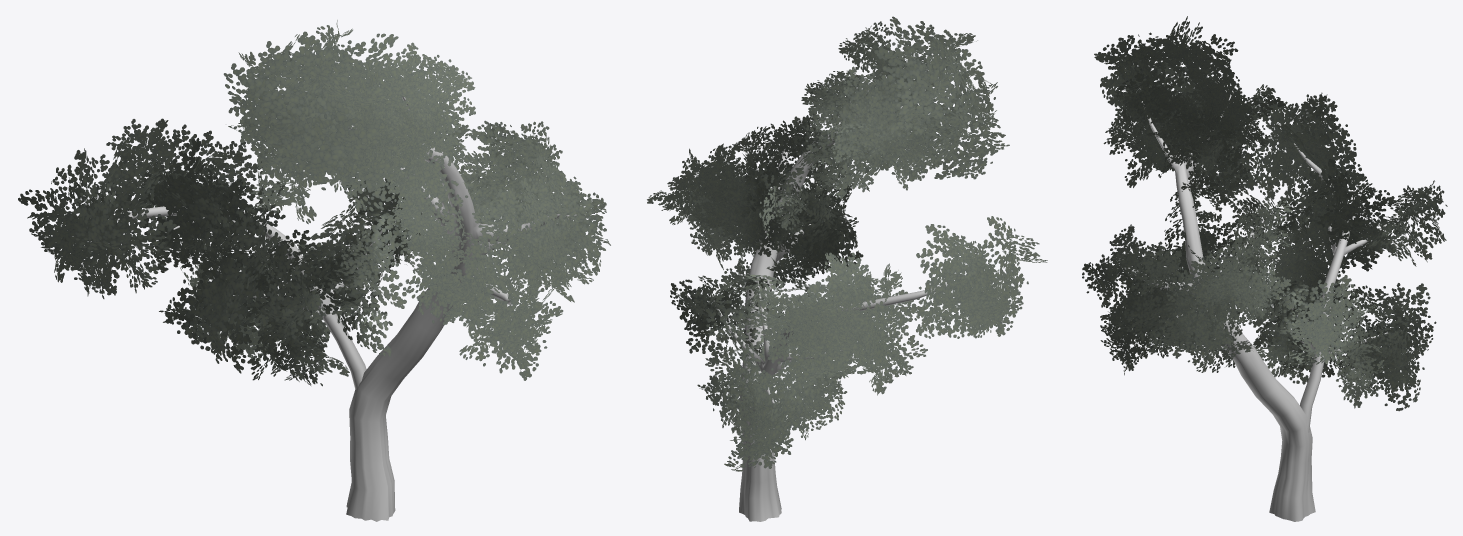
File: SM_Tree_C_01.fbx
3 views of the same model, side by side, from view 1: azimuth 30°, elevation 25°; view 2: azimuth 150°, elevation 25°; view 3: azimuth 270°, elevation 25° (orthographic). The views are drawn at different scales.
Visible parts, largest first — view 1: SM_Tree_C_01_LOD0; view 2: SM_Tree_C_01_LOD0; view 3: SM_Tree_C_01_LOD0.
Part boxes in pixels (bbox=[...]): SM_Tree_C_01_LOD0: bbox=[18, 20, 610, 521]; SM_Tree_C_01_LOD0: bbox=[647, 16, 1047, 521]; SM_Tree_C_01_LOD0: bbox=[1082, 16, 1447, 521].
Size of what is drawn, in the model's own units: 15.22 by 16.73 by 12.7.
